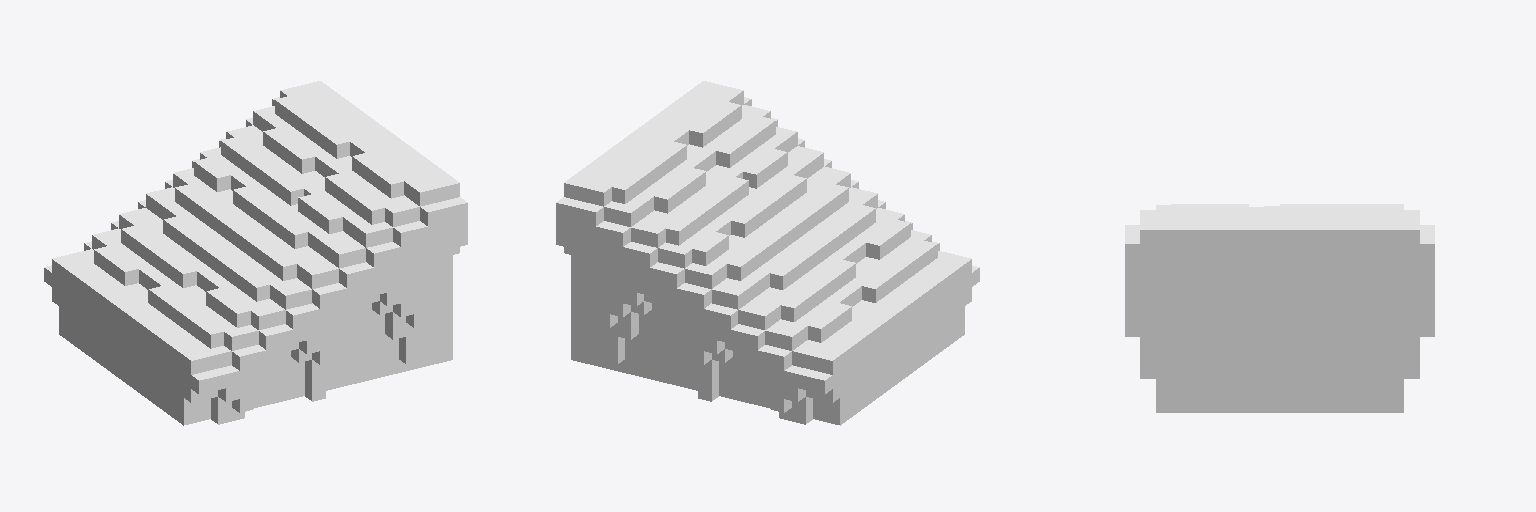
File: Floors-28.obj
3 renders of one model, left to right at view 1: azimuth 30°, elevation 25°; view 2: azimuth 150°, elevation 25°; view 3: azimuth 270°, elevation 25°, orthographic.
Parts seen in each view (by area): view 1: object 1; view 2: object 1; view 3: object 1.
Part boxes in pixels (x1,y1,x2,y2): object 1: (44,81,467,425); object 1: (556,81,979,425); object 1: (1125,204,1434,412).
Size of the model in its own units: 2 by 1.3 by 2.